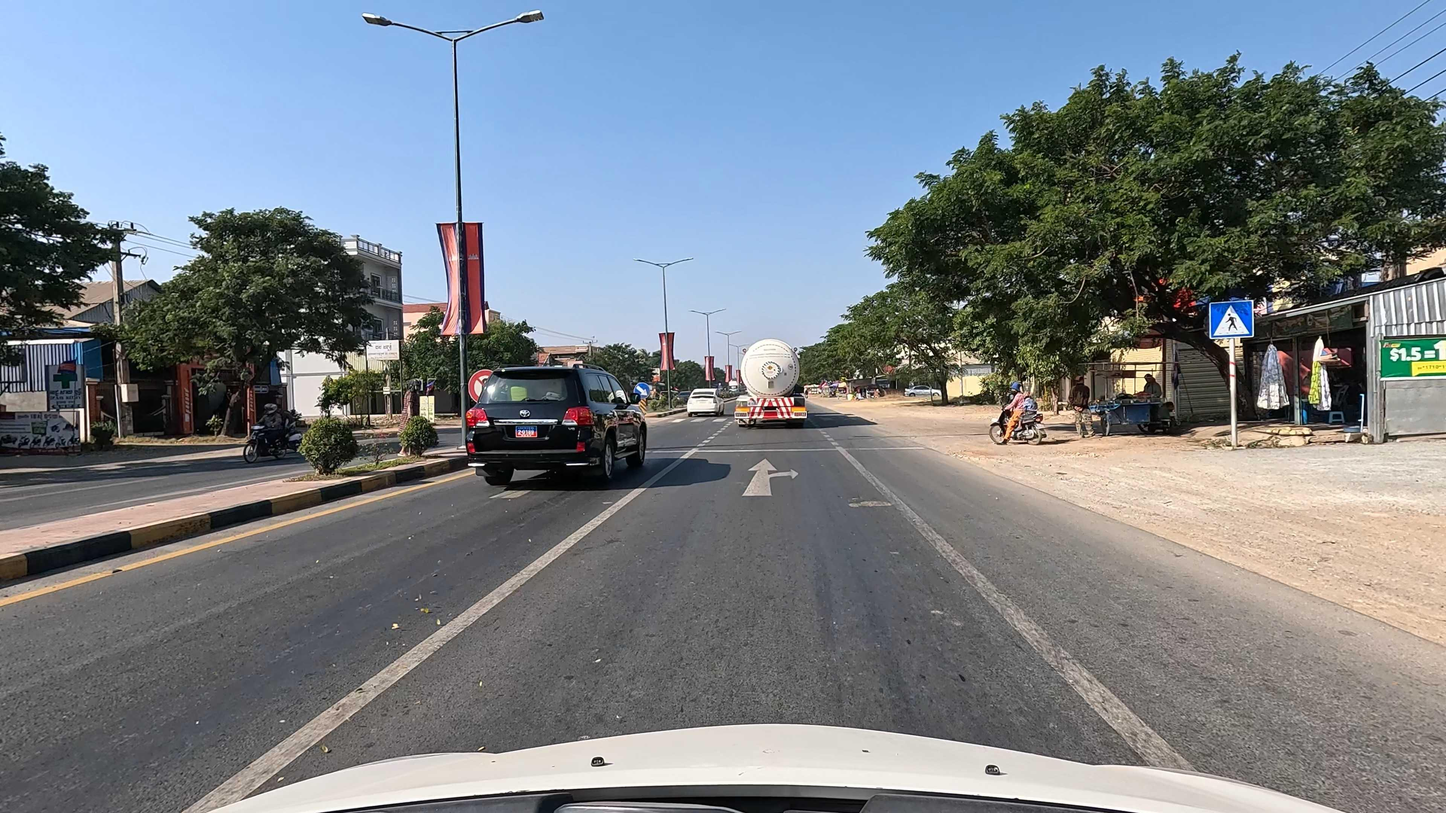no_u_turn: (467, 369, 496, 405)
pedestrian_crossing: (1208, 299, 1255, 340)
